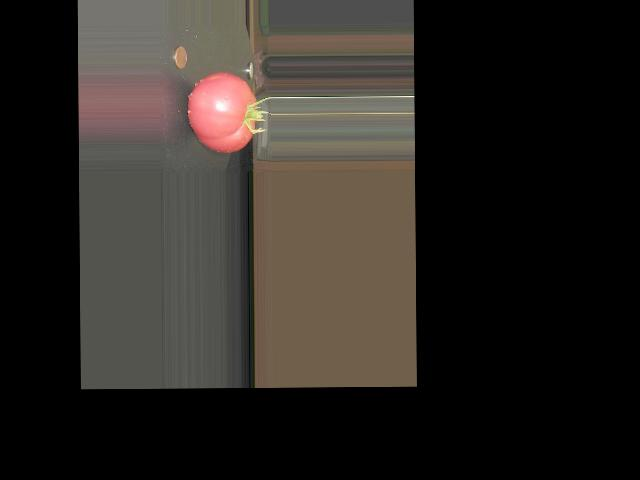tomato: (187, 72, 256, 153)
